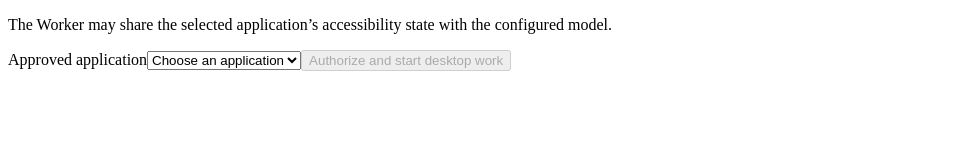
Scenario: explicit Linux desktop target disclosure › keeps Linux unavailable and legacy macOS selectable in en
This screenshot has width=957, height=160.
Later steps or results of the test are not shown.
Step 1. Select "linux:chromium" in the dropdown labelled "Approved application" → (224,60), box [147,51,301,70]
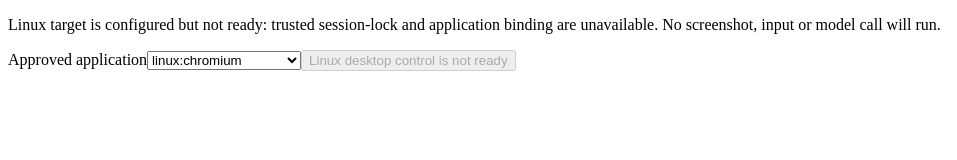
expect the message shows "Linux target is configured but not ready: trusted session-lock and application binding are unavailable. No screenshot, input or model call will run.": met, box [8,16,941,33]
expect the button "Linux desktop control is not ready" is shown: met
Step 2. Click the button "Linux desktop control is not ready" → (408,60), box [301,50,516,71]
Step 3. Select "com.apple.TextEdit" in the dropdown labelled "Approved application" → (224,60), box [147,51,301,70]
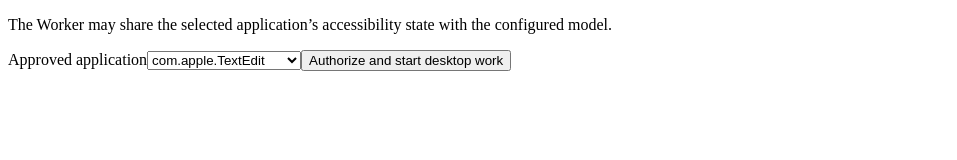
expect the button "Authorize and start desktop work" is enabled: met, box [301,50,511,71]
